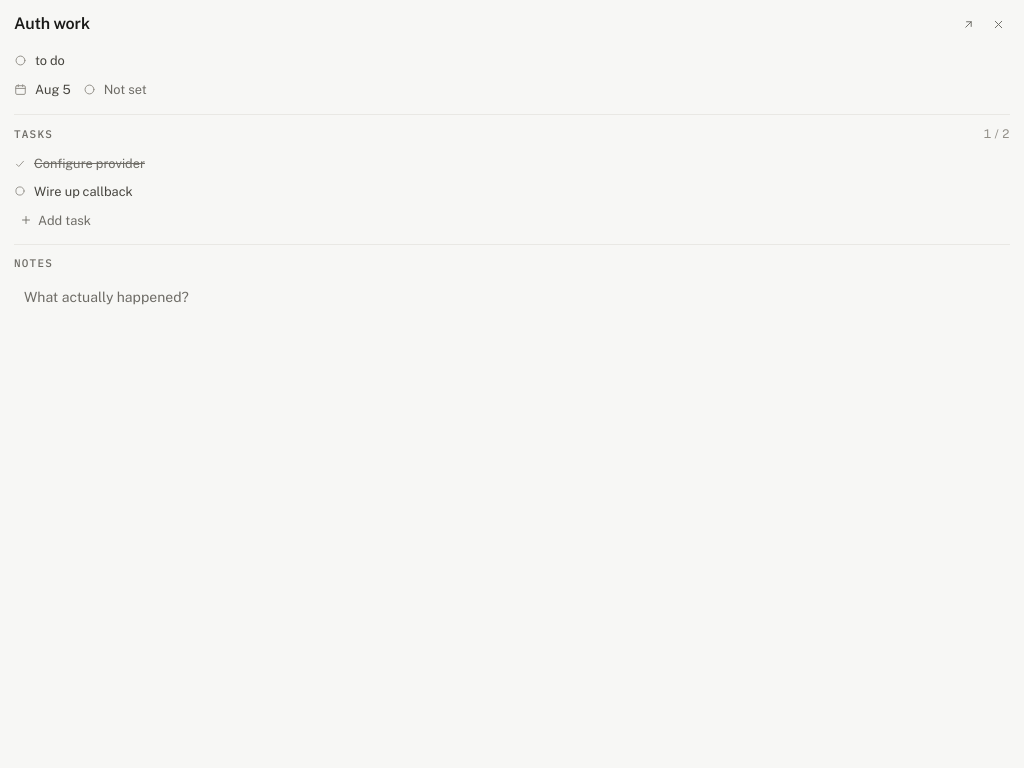
Scenario: StepPanel › shows the title as a level-2 heading and labels both span fields
The width and height of the screenshot is (1024, 768).
expect the heading "Auth work" is shown: met, box [14,12,950,36]
Click the button with aria-label "Dates: " at [42, 90], box [8,75,77,104]
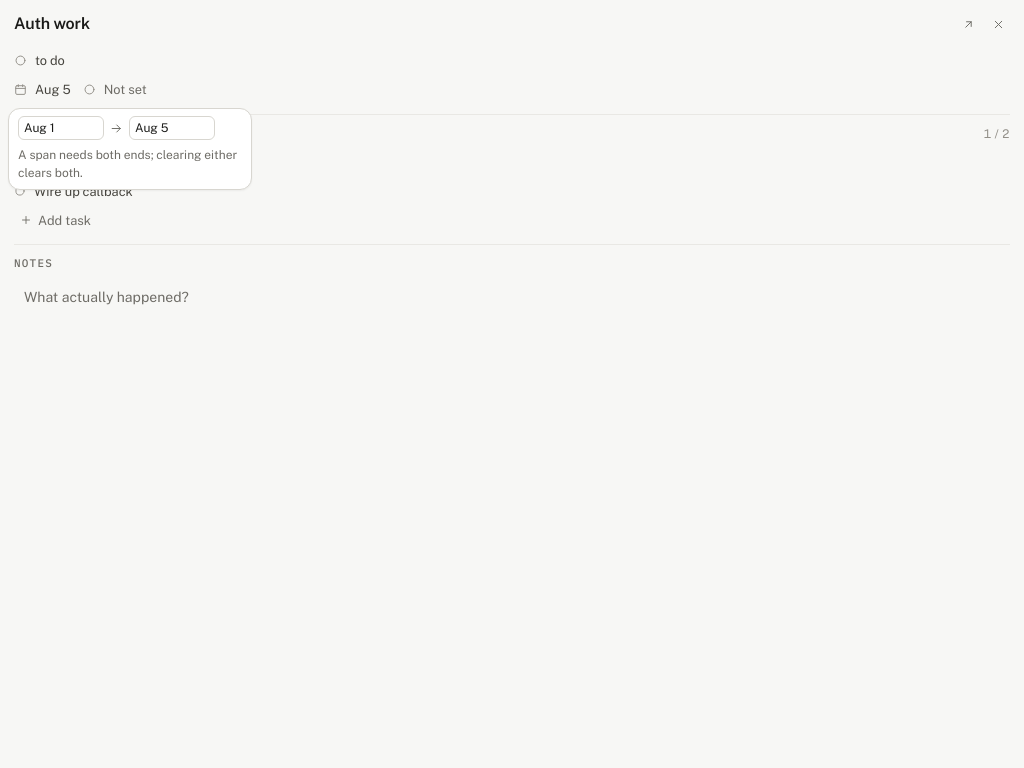
expect the field named "Span start" is shown: met, box [18,116,104,140]
expect the field named "Span end" is shown: met, box [129,116,215,140]
